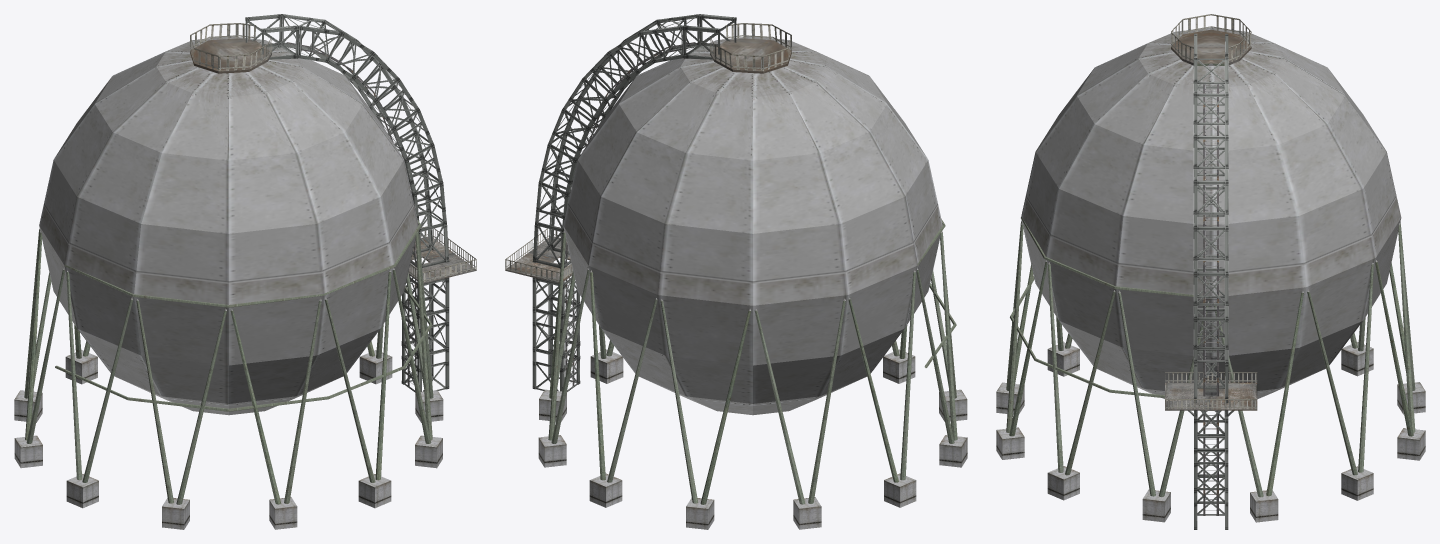
The model's file is GasStorage01.obj.
The picture shows the model from 3 angles, left to right: view 1: azimuth 30°, elevation 25°; view 2: azimuth 150°, elevation 25°; view 3: azimuth 270°, elevation 25°; orthographic projection.
Visible parts, largest first — view 1: Sphere01, Support, SupportArch, GasStorage01.Plattform02, SupportBtm, Plattform01; view 2: Sphere01, Support, SupportArch, SupportBtm, GasStorage01.Plattform02, Plattform01; view 3: Sphere01, Support, SupportArch, Plattform01, GasStorage01.Plattform02, SupportBtm, LadderArch, LadderBttm.
Boxes of the visible parts, <box> form: Sphere01: <box>39,36,418,415</box>; Support: <box>14,220,443,529</box>; SupportArch: <box>245,14,449,268</box>; GasStorage01.Plattform02: <box>190,23,271,73</box>; SupportBtm: <box>401,275,449,392</box>; Plattform01: <box>408,226,476,283</box>; Sphere01: <box>563,36,942,415</box>; Support: <box>538,219,967,529</box>; SupportArch: <box>532,14,736,268</box>; SupportBtm: <box>532,276,580,391</box>; GasStorage01.Plattform02: <box>710,23,791,73</box>; Plattform01: <box>505,226,572,283</box>; Sphere01: <box>1021,27,1401,399</box>; Support: <box>996,217,1425,522</box>; SupportArch: <box>1193,33,1228,403</box>; Plattform01: <box>1165,372,1257,416</box>; GasStorage01.Plattform02: <box>1171,14,1251,65</box>; SupportBtm: <box>1194,390,1228,529</box>; LadderArch: <box>1203,84,1218,385</box>; LadderBttm: <box>1203,385,1218,515</box>.
Bounding box in the file's own units: 41.19 × 39.28 × 37.26.
